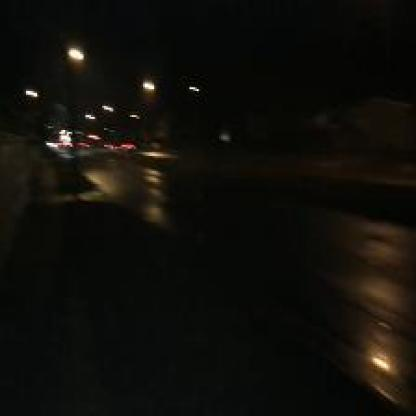other: (138, 132, 172, 224), (60, 43, 97, 74), (371, 348, 400, 379), (131, 73, 159, 97)
